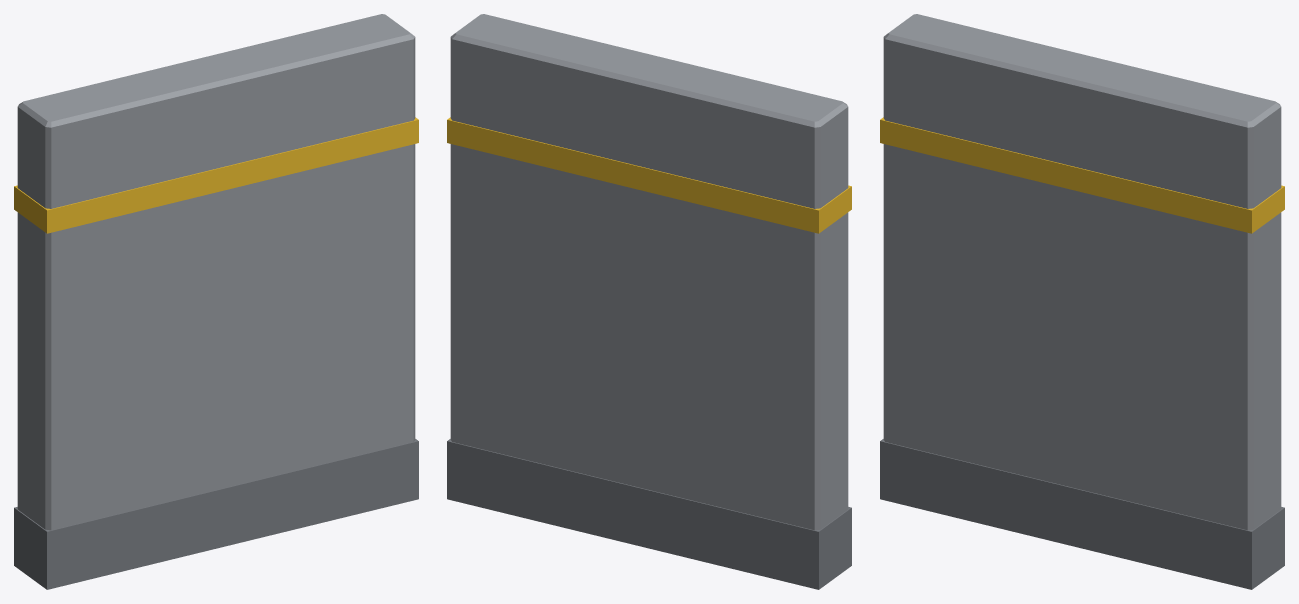
File: concrete_wall_2m.glb
3 renders of one model, left to right at view 1: azimuth 30°, elevation 25°; view 2: azimuth 150°, elevation 25°; view 3: azimuth 330°, elevation 25°, orthographic.
Parts seen in each view (by area): view 1: concrete_wall_2m; view 2: concrete_wall_2m; view 3: concrete_wall_2m.
Part boxes in pixels (x1,y1,x2,y2): concrete_wall_2m: [14, 14, 418, 589]; concrete_wall_2m: [447, 14, 851, 589]; concrete_wall_2m: [880, 14, 1284, 589].
Size of the model in its own units: 2.01 by 2.4 by 0.31.
